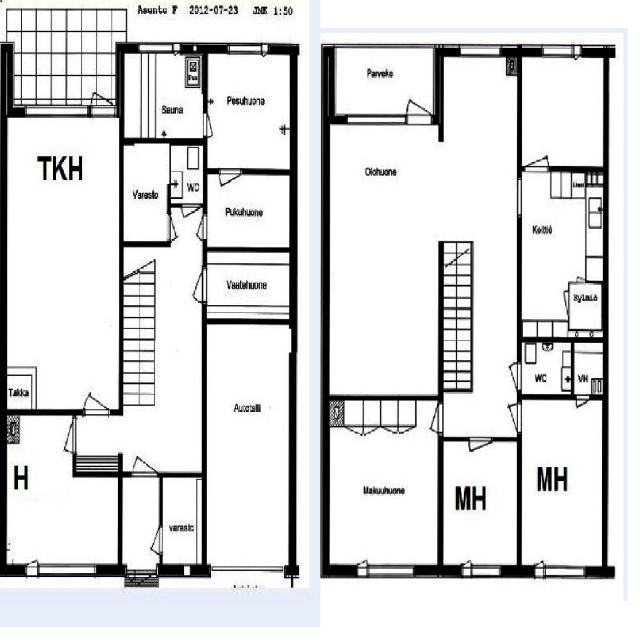door: (407, 78, 431, 124), (91, 71, 114, 117), (84, 373, 108, 416), (525, 130, 548, 172), (179, 268, 207, 302), (135, 565, 157, 608), (133, 438, 156, 477), (469, 437, 492, 475), (50, 418, 76, 451), (418, 403, 444, 433), (496, 361, 522, 391), (219, 169, 240, 205), (497, 402, 522, 432), (140, 525, 162, 553), (182, 203, 200, 234), (186, 216, 207, 240), (202, 113, 223, 137), (168, 215, 188, 240), (552, 292, 571, 316), (576, 394, 590, 418), (126, 564, 134, 588), (575, 268, 585, 286)
